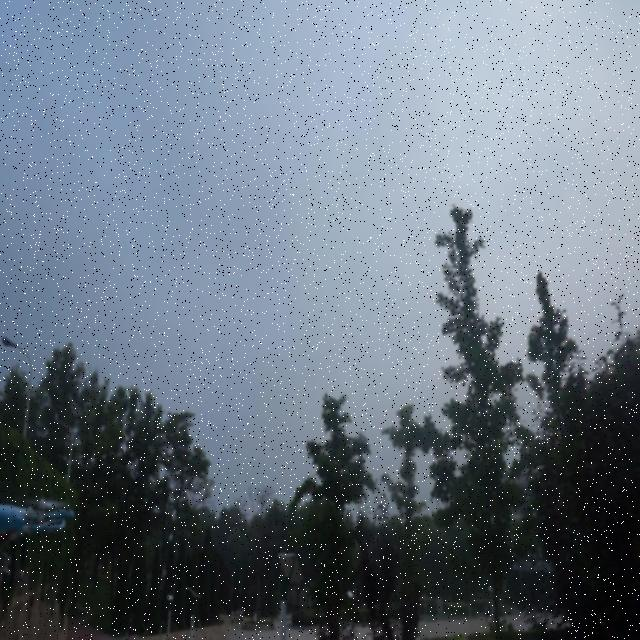UAV: (0, 499, 74, 581)
